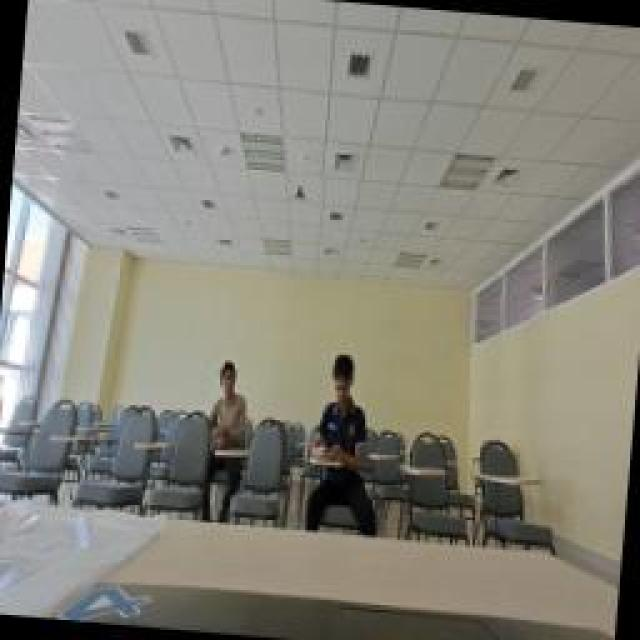phone: (305, 348, 373, 470)
study: (202, 350, 250, 448)
